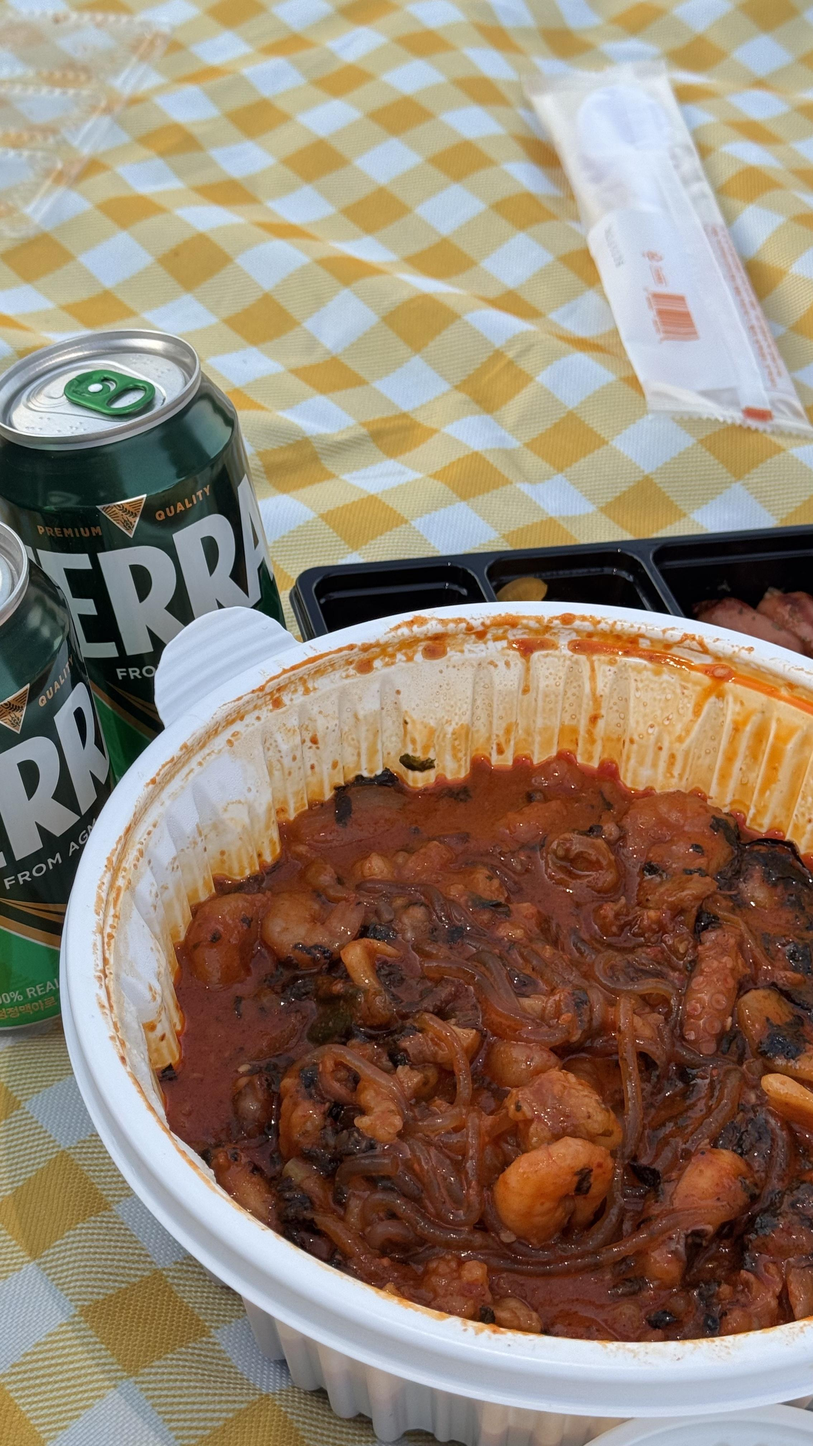Lunch Box: (63, 604, 813, 1446), (290, 526, 813, 655)
